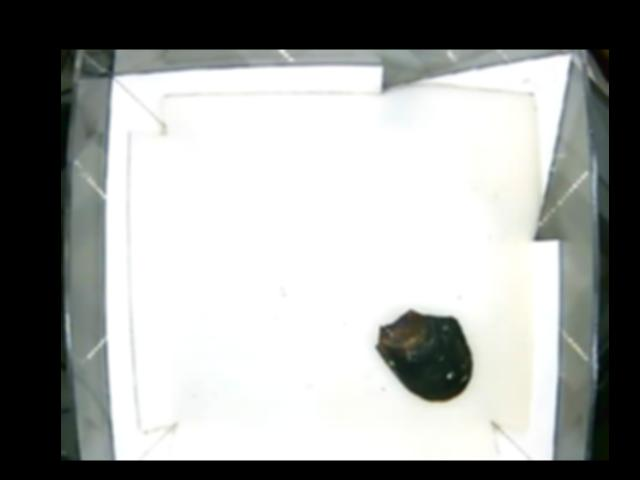Shell: (375, 306, 471, 400)
